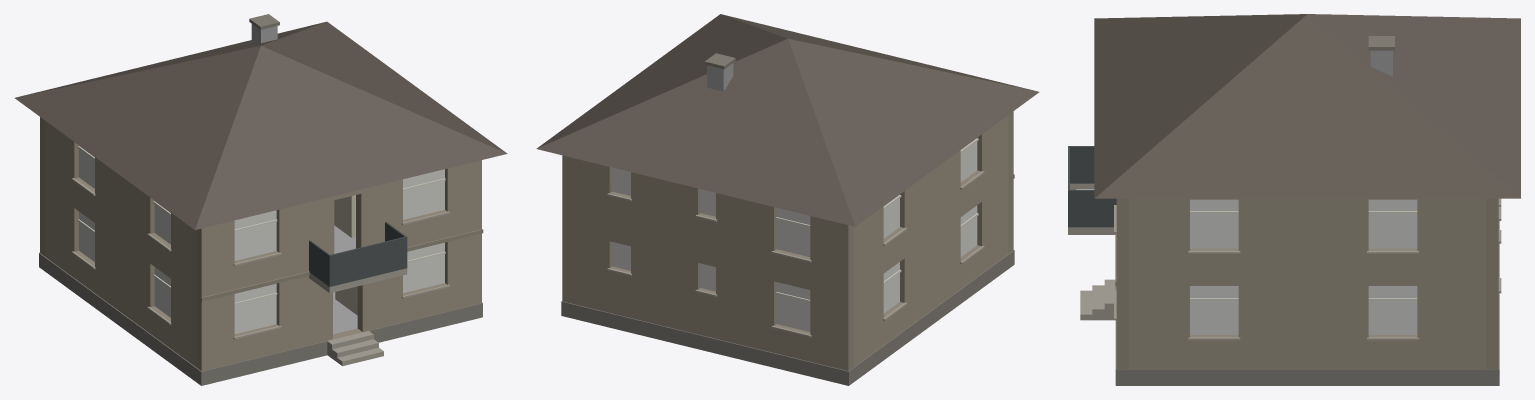
File: dom-kostka-namiot.pbr.glb
3 renders of one model, left to right at view 1: azimuth 30°, elevation 25°; view 2: azimuth 150°, elevation 25°; view 3: azimuth 270°, elevation 25°, orthographic. The views are drawn at different scales.
Visible parts, largest first — view 1: dom-kostka-namiot; view 2: dom-kostka-namiot; view 3: dom-kostka-namiot.
Boxes of the visible parts, x1=… form: dom-kostka-namiot: x1=15, y1=14, x2=507, y2=385; dom-kostka-namiot: x1=536, y1=14, x2=1039, y2=385; dom-kostka-namiot: x1=1068, y1=14, x2=1520, y2=385.
Bounding box in the file's own units: 10.5 × 7.9 × 11.15.
